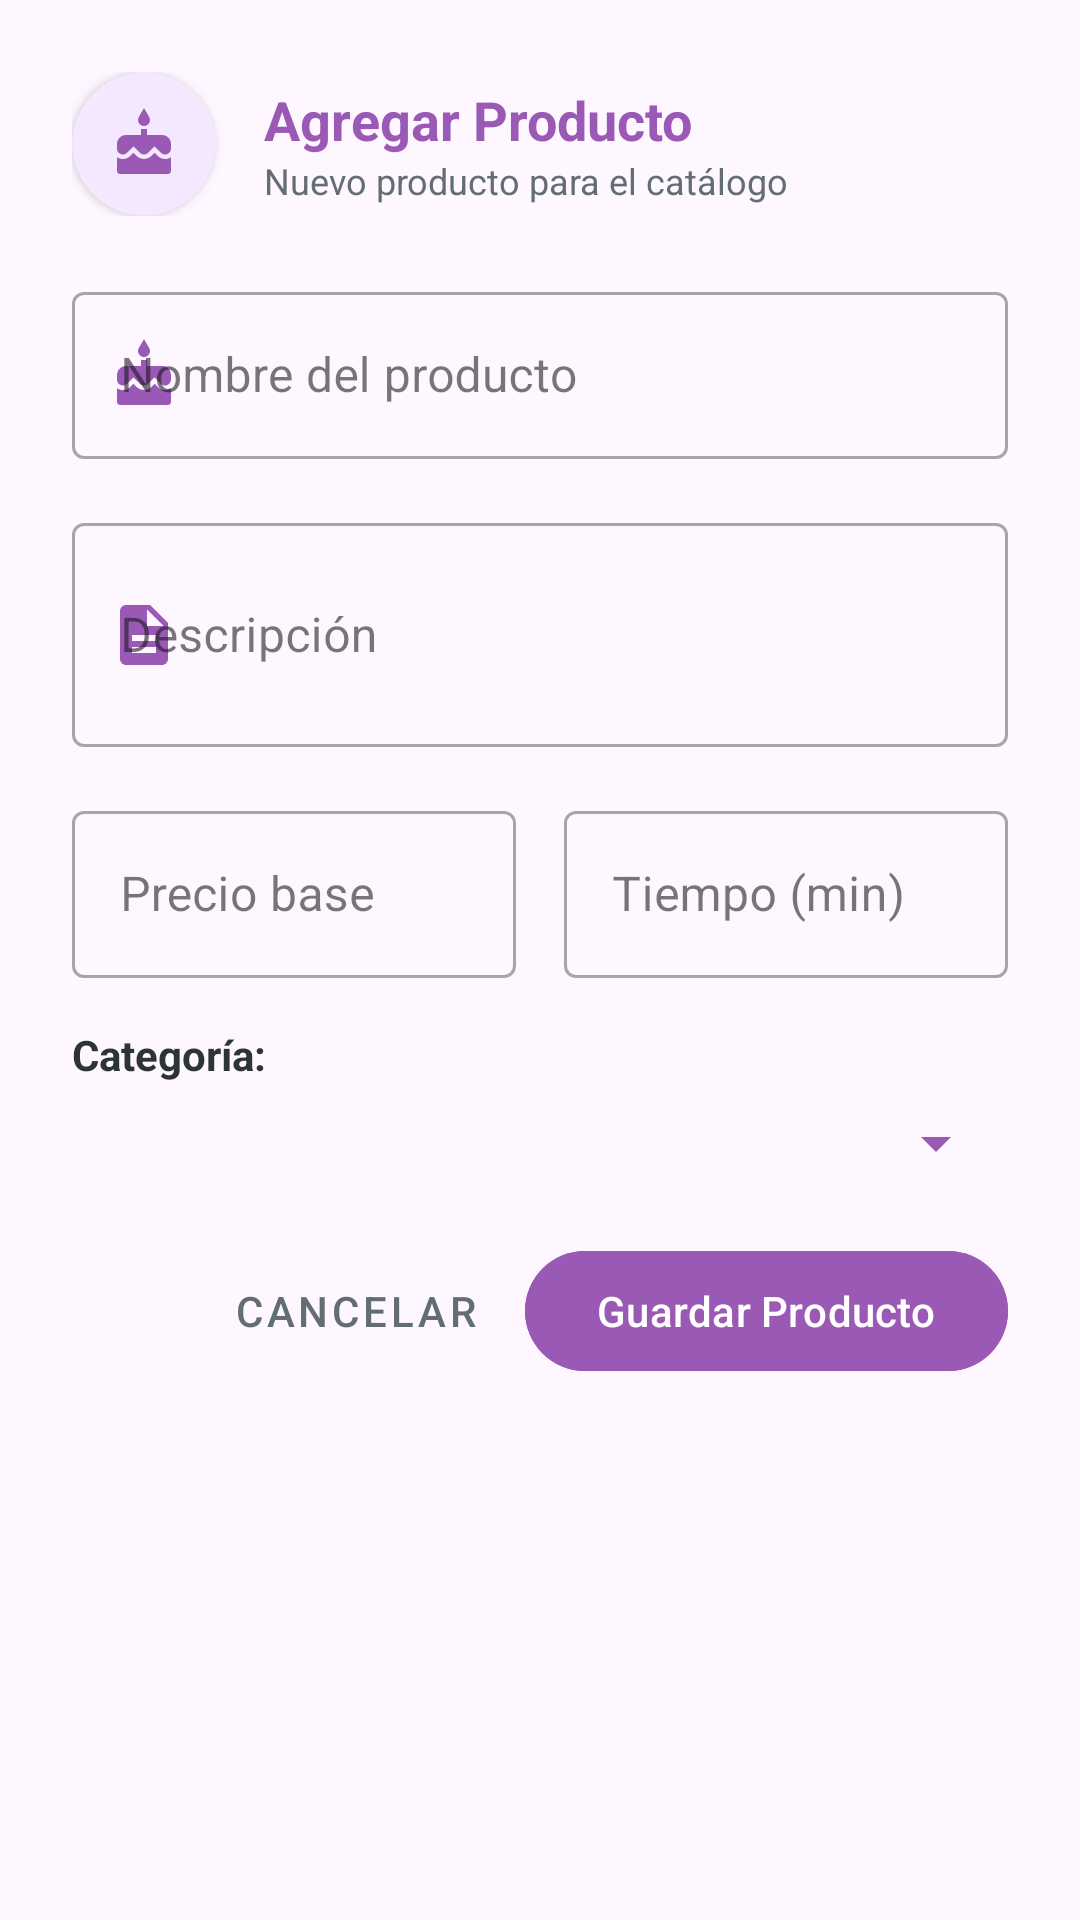

Icons on this 1080x1920 Android screen, each with its box as [x1,y1,x2,y2]:
cake: [117,108,171,174]
